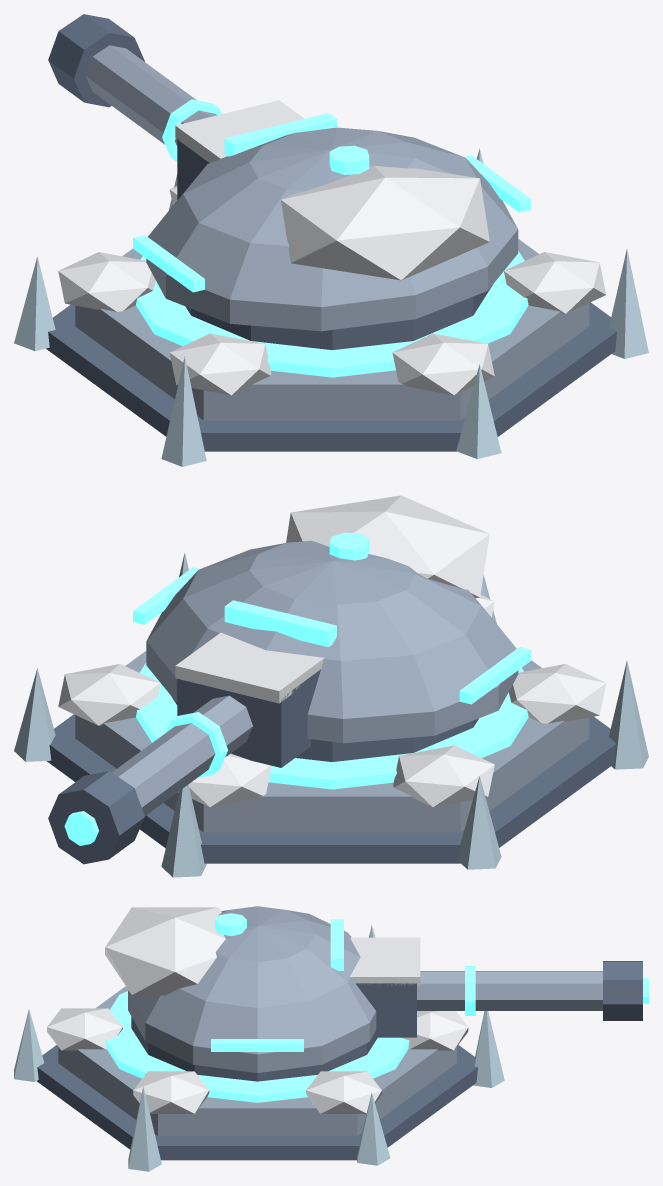
The model's file is turret_lvl1.glb.
3 renders of one model, top to bottom at view 1: azimuth 30°, elevation 25°; view 2: azimuth 150°, elevation 25°; view 3: azimuth 270°, elevation 25°, orthographic. The views are drawn at different scales.
Parts seen in each view (by area): view 1: Dome_05, Base_01, BaseSkirt_02, SnowBlanket_16, Neon_BaseRing_03, Barrel_09, Pivot_04, SnowMound_21, SnowMound_20, SnowMound_22, SnowMound_19, Muzzle_10 (+11 smaller); view 2: Dome_05, Base_01, BaseSkirt_02, SnowBlanket_16, Neon_BaseRing_03, Barrel_09, SnowCap_08, BarrelMount_07, Muzzle_10, SnowMound_19, SnowMound_17, SnowMound_20 (+12 smaller); view 3: Dome_05, Base_01, BaseSkirt_02, SnowBlanket_16, Barrel_09, Neon_BaseRing_03, SnowCap_08, SnowMound_17, SnowMound_22, SnowMound_21, BarrelMount_07, Pivot_04 (+10 smaller).
Part boxes in pixels (x1,y1,x2,y2): Dome_05: [146, 127, 518, 331]; Base_01: [75, 239, 589, 420]; BaseSkirt_02: [46, 302, 616, 451]; SnowBlanket_16: [281, 165, 489, 280]; Neon_BaseRing_03: [136, 251, 528, 377]; Barrel_09: [86, 45, 216, 146]; Pivot_04: [185, 285, 492, 350]; SnowMound_21: [392, 333, 494, 395]; SnowMound_20: [169, 333, 271, 395]; SnowMound_22: [504, 252, 606, 313]; SnowMound_19: [58, 252, 155, 311]; Muzzle_10: [48, 14, 144, 107]; Dome_05: [146, 540, 518, 743]; Base_01: [75, 651, 589, 832]; BaseSkirt_02: [47, 714, 616, 863]; SnowBlanket_16: [286, 495, 489, 597]; Neon_BaseRing_03: [136, 662, 528, 789]; Barrel_09: [112, 695, 252, 815]; SnowCap_08: [175, 632, 324, 703]; BarrelMount_07: [177, 669, 320, 767]; Muzzle_10: [48, 771, 144, 864]; SnowMound_19: [393, 745, 494, 807]; SnowMound_17: [58, 664, 160, 725]; SnowMound_20: [508, 664, 606, 723]; Dome_05: [128, 906, 376, 1072]; Base_01: [58, 986, 456, 1135]; BaseSkirt_02: [37, 1045, 477, 1160]; SnowBlanket_16: [105, 907, 225, 995]; Barrel_09: [417, 971, 602, 1010]; Neon_BaseRing_03: [106, 991, 409, 1102]; SnowCap_08: [350, 937, 420, 986]; SnowMound_17: [306, 1071, 381, 1113]; SnowMound_22: [133, 1071, 209, 1113]; SnowMound_21: [47, 1008, 122, 1050]; BarrelMount_07: [355, 983, 416, 1037]; Pivot_04: [131, 1016, 377, 1081].
Bounding box in the file's own units: 3.25 × 1.35 × 4.78.
